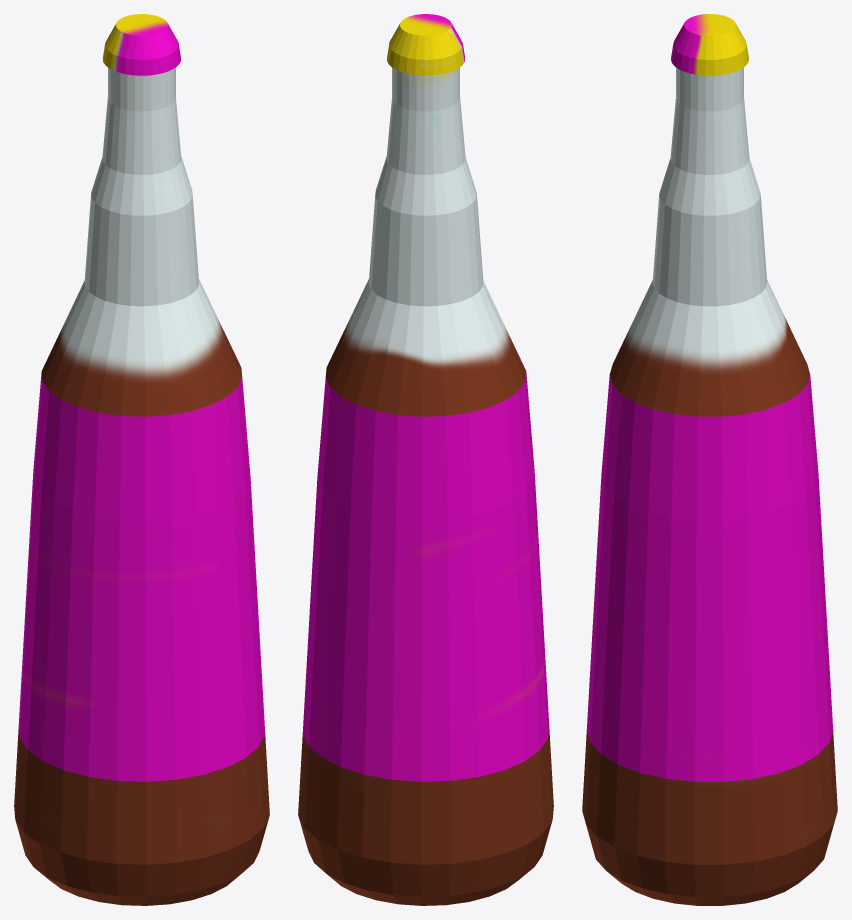
File: Garrafa.fbx
3 views of the same model, side by side, from view 1: azimuth 30°, elevation 25°; view 2: azimuth 150°, elevation 25°; view 3: azimuth 270°, elevation 25° (orthographic).
Visible parts, largest first — view 1: Cylinder; view 2: Cylinder; view 3: Cylinder.
Part boxes in pixels (box(x1,y1,x2,y2)): Cylinder: box(14, 14, 269, 905); Cylinder: box(298, 14, 553, 905); Cylinder: box(582, 14, 837, 905).
Size of the model in its own units: 588 by 2132 by 589.
1 material, 1 textured.
